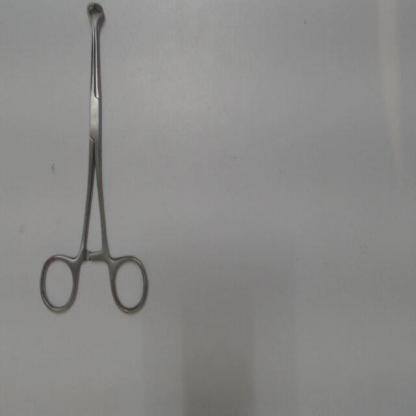Babcock Tissue Forceps: (38, 1, 152, 318)
